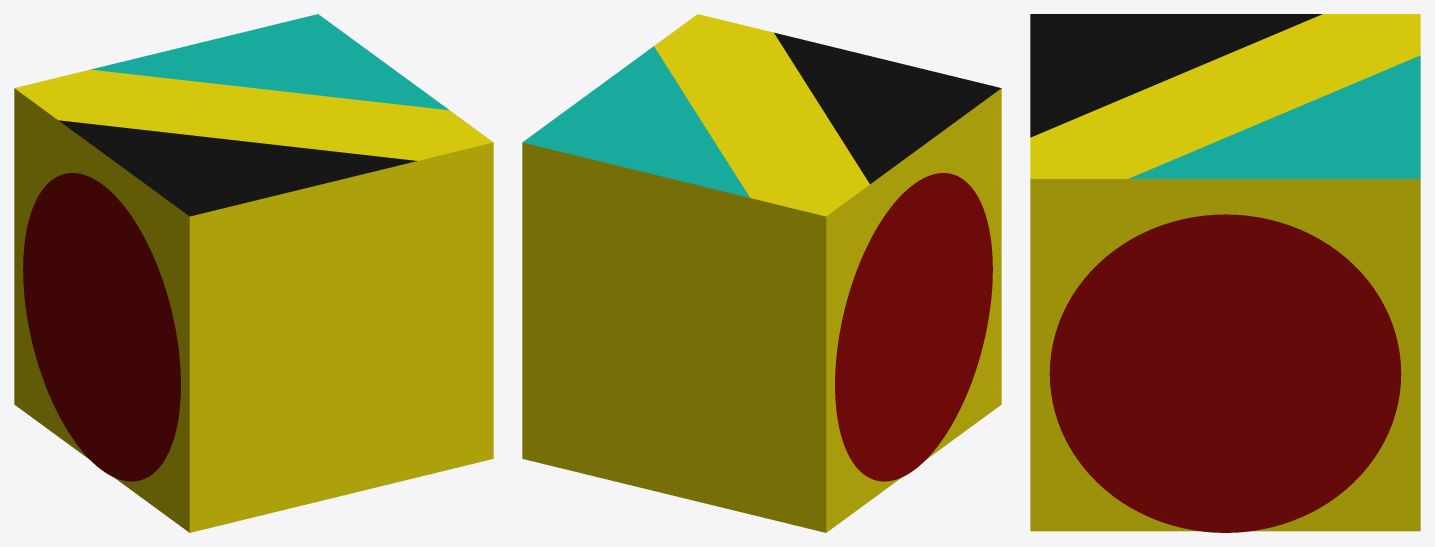
Rendered from Yellow4.FBX.
3 views of the same model, side by side, from view 1: azimuth 30°, elevation 25°; view 2: azimuth 150°, elevation 25°; view 3: azimuth 270°, elevation 25° (orthographic). The views are drawn at different scales.
Visible parts, largest first — view 1: Body, WheelR; view 2: Body, WheelR; view 3: Body, WheelL.
Boxes of the visible parts, box(x1,y1,x2,y2) form: Body: box(14, 14, 493, 532); WheelR: box(23, 173, 180, 481); Body: box(522, 14, 1001, 532); WheelR: box(835, 173, 992, 481); Body: box(1030, 14, 1420, 531); WheelL: box(1049, 214, 1401, 532).
Bounding box in the file's own units: 7.87 × 7.87 × 7.87.
